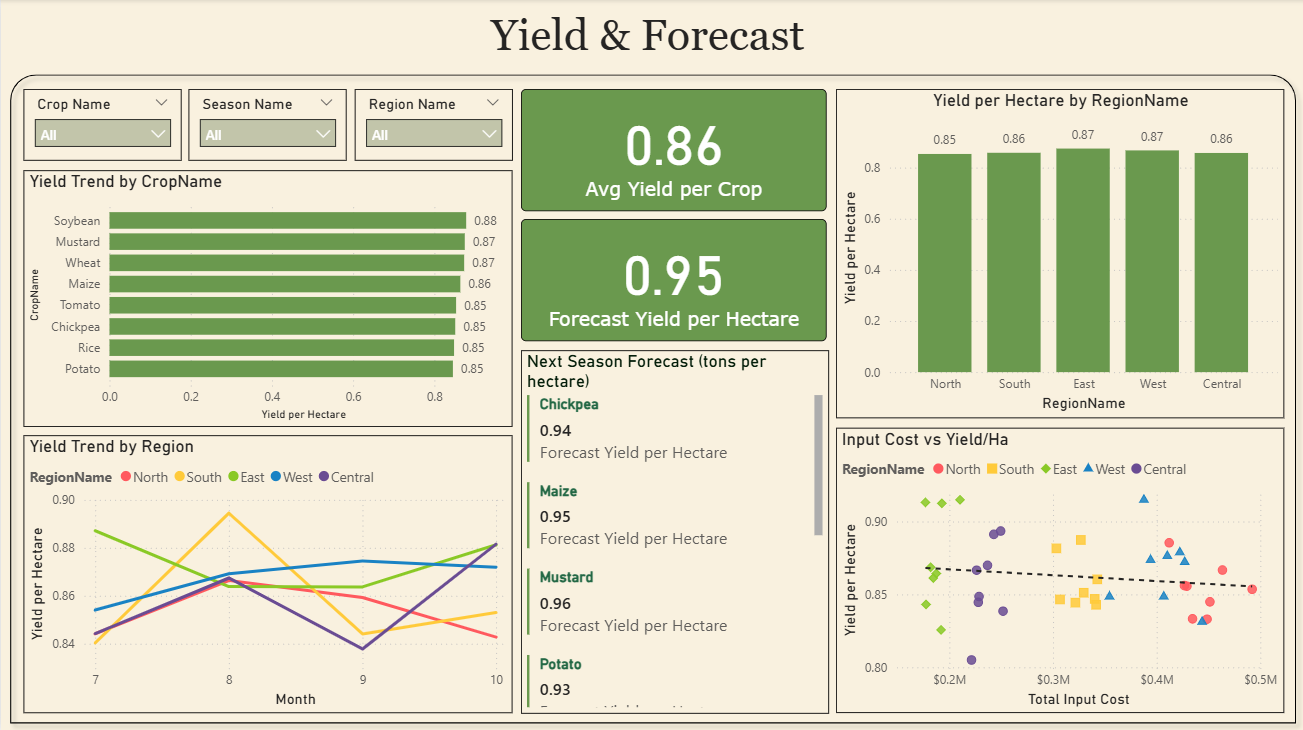

The dashboard page shown, as its layout file describes it:
{"tool":"powerbi","page":{"name":"Yield & Forecast ","canvas":[1280,720],"ordinal":1},"visuals":[{"type":"shape","box":[0,65,1280.2,655],"z":0},{"type":"slicer","fields":{"Values":["DimRegion.RegionName"]},"box":[346.8,88.7,155.4,70.2],"z":1000},{"type":"slicer","fields":{"Values":["DimCrop.CropName"]},"box":[22,88.7,155.4,70.2],"z":2000},{"type":"slicer","fields":{"Values":["DimSeason.SeasonName"]},"box":[184.4,88.7,155.4,70.2],"z":3000},{"type":"textbox","box":[467.1,6.1,345.1,58.8],"z":4000},{"type":"lineChart","title":"Yield Trend by Region","fields":{"Category":["DimDateTime.Month"],"Series":["DimRegion.RegionName"],"Y":["FactCropYield.Yield per Hectare"]},"box":[22,427.6,480.3,273.1],"z":5000},{"type":"clusteredBarChart","title":"Yield Trend by CropName","fields":{"Category":["DimCrop.CropName"],"Y":["FactCropYield.Yield per Hectare"]},"box":[22,168.6,480.3,252],"z":6000},{"type":"card","fields":{"Values":["FactCropYield.Avg Yield per Crop"]},"box":[510.1,88.7,300.3,120.3],"z":7000},{"type":"scatterChart","title":"Input Cost vs Yield/Ha","fields":{"Y":["FactCropYield.Yield per Hectare"],"X":["FactFieldOperations.Total Input Cost"],"Category":["DimCrop.CropName"],"Series":["DimRegion.RegionName"]},"box":[819.2,420.6,439.9,280.1],"z":8000},{"type":"card","fields":{"Values":["FactCropYield.Forecast Yield per Hectare"]},"box":[510.1,216,300.3,120.3],"z":9000},{"type":"multiRowCard","title":"Next Season Forecast (tons per hectare)","fields":{"Values":["DimCrop.CropName","FactCropYield.Forecast Yield per Hectare"]},"box":[510.1,344.2,302,356.5],"z":10000},{"type":"clusteredColumnChart","fields":{"Category":["DimRegion.RegionName"],"Y":["FactCropYield.Yield per Hectare"]},"box":[819.2,88.7,439.9,323.1],"z":11000}]}

Visuals, with their boxes in screenshot pixels (x1, y1, x2, y2), scaled from the page's 1280x720 canvas onto the 1303x730 screenshot:
shape: pyautogui.locateOnScreen(0, 66, 1302, 729)
slicer - DimRegion.RegionName: pyautogui.locateOnScreen(353, 90, 511, 161)
slicer - DimCrop.CropName: pyautogui.locateOnScreen(22, 90, 181, 161)
slicer - DimSeason.SeasonName: pyautogui.locateOnScreen(188, 90, 346, 161)
textbox: pyautogui.locateOnScreen(475, 6, 827, 66)
"Yield Trend by Region" lineChart: pyautogui.locateOnScreen(22, 434, 511, 710)
"Yield Trend by CropName" clusteredBarChart: pyautogui.locateOnScreen(22, 171, 511, 426)
card - FactCropYield.Avg Yield per Crop: pyautogui.locateOnScreen(519, 90, 825, 212)
"Input Cost vs Yield/Ha" scatterChart: pyautogui.locateOnScreen(834, 426, 1282, 710)
card - FactCropYield.Forecast Yield per Hectare: pyautogui.locateOnScreen(519, 219, 825, 341)
"Next Season Forecast (tons per hectare)" multiRowCard: pyautogui.locateOnScreen(519, 349, 827, 710)
clusteredColumnChart - DimRegion.RegionName x FactCropYield.Yield per Hectare: pyautogui.locateOnScreen(834, 90, 1282, 418)
